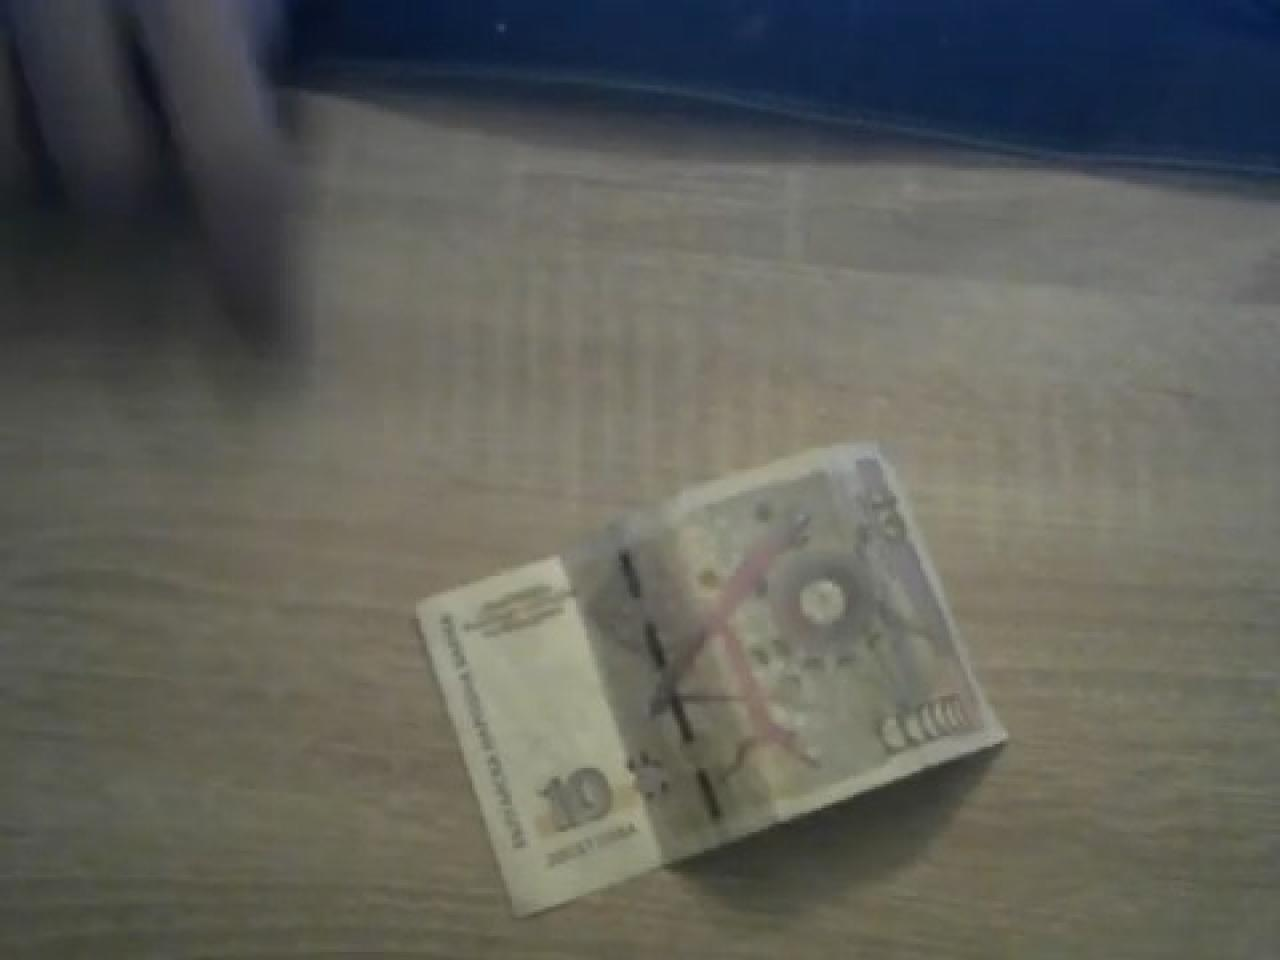10leva: (413, 443, 1011, 920)
